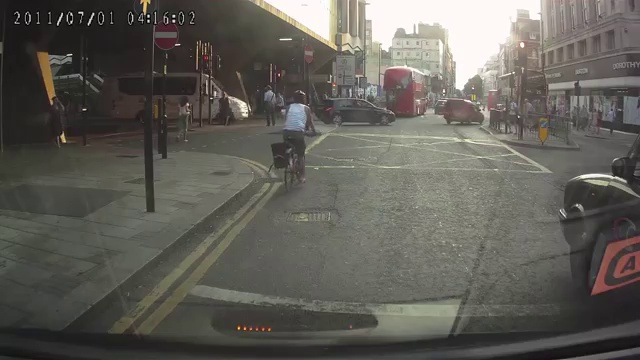cyclist_back: (274, 89, 313, 190)
